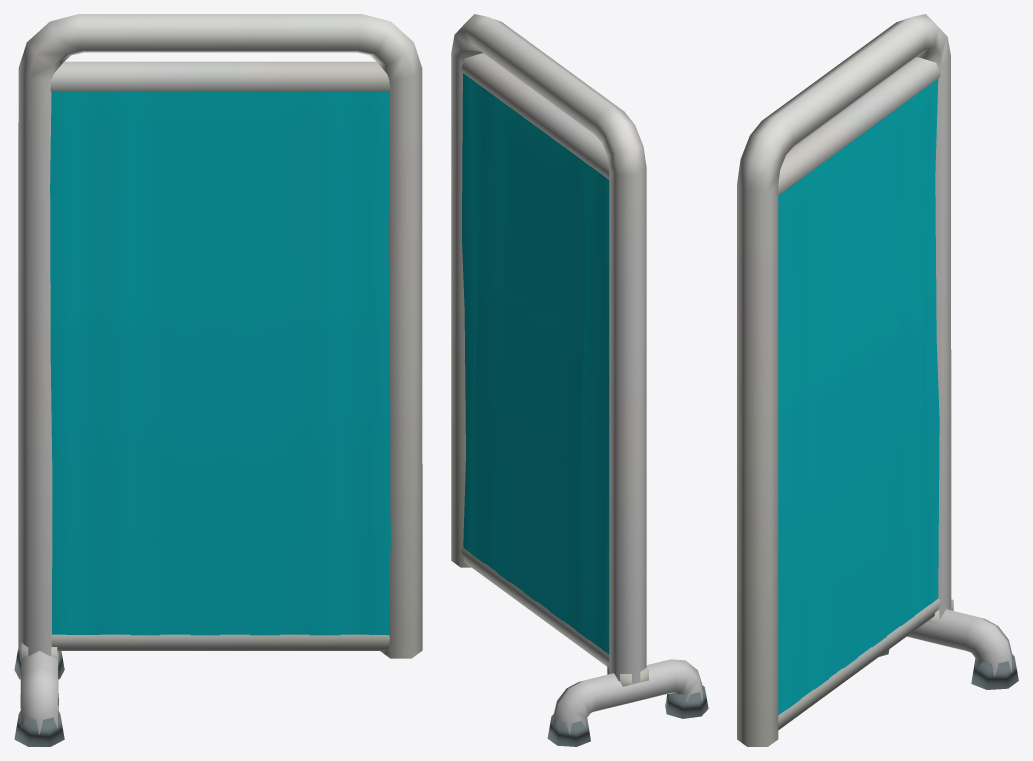
Rendered from Pfb_JLAB_Screen__4.fbx.
The picture shows the model from 3 angles, left to right: view 1: azimuth 30°, elevation 25°; view 2: azimuth 150°, elevation 25°; view 3: azimuth 270°, elevation 25°; orthographic projection. The views are drawn at different scales.
Parts seen in each view (by area): view 1: Color; view 2: Color; view 3: Color.
Boxes of the visible parts, x1,y1,x2,y2 form: Color: (14,14,422,746); Color: (451,14,708,746); Color: (737,14,1018,746).
Size of the model in its own units: 0.9074 by 1.75 by 0.6764.
Materials: 1 (1 with a texture image).
